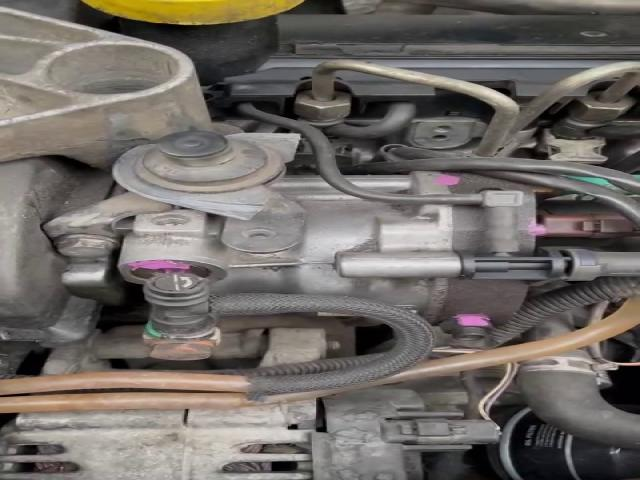alternator: (0, 386, 510, 480)
high_pressure_pump: (116, 168, 557, 340)
